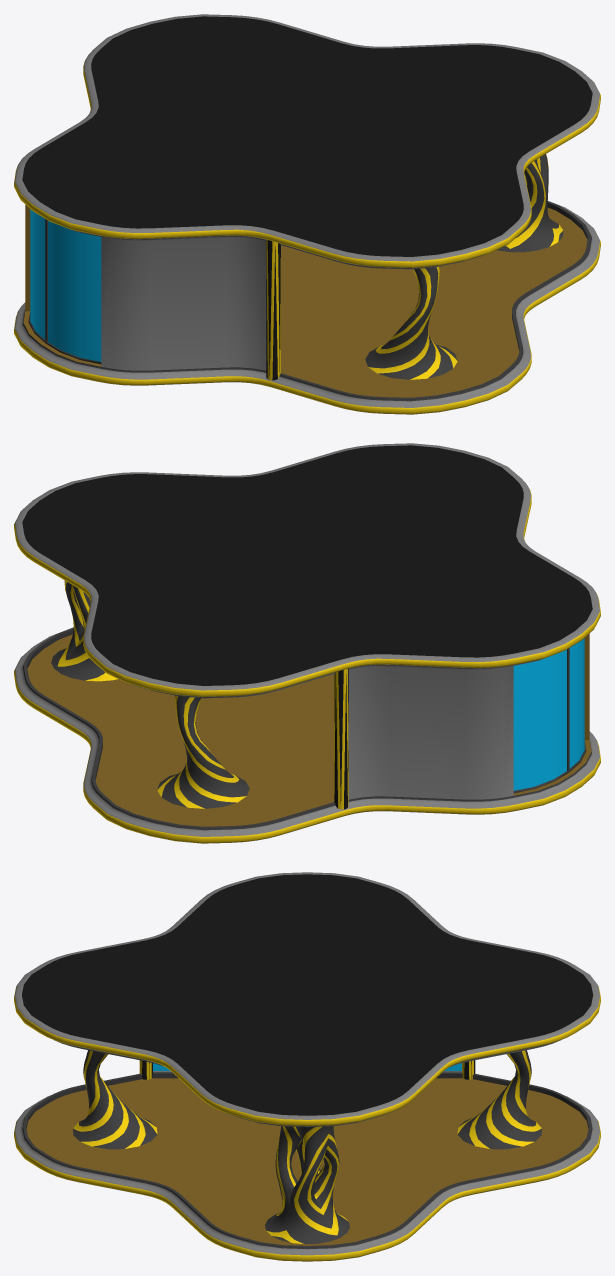
The model's file is SM_Building_Roof_MK5.fbx.
3 renders of one model, top to bottom at view 1: azimuth 30°, elevation 25°; view 2: azimuth 150°, elevation 25°; view 3: azimuth 270°, elevation 25°, orthographic. The views are drawn at different scales.
Parts seen in each view (by area): view 1: SM_Building_Roof_MK5; view 2: SM_Building_Roof_MK5; view 3: SM_Building_Roof_MK5.
Boxes of the visible parts, x1,y1,x2,y2 form: SM_Building_Roof_MK5: [14, 14, 600, 414]; SM_Building_Roof_MK5: [14, 443, 600, 843]; SM_Building_Roof_MK5: [14, 872, 600, 1261].
Size of the model in its own units: 1849 by 500 by 1849.
